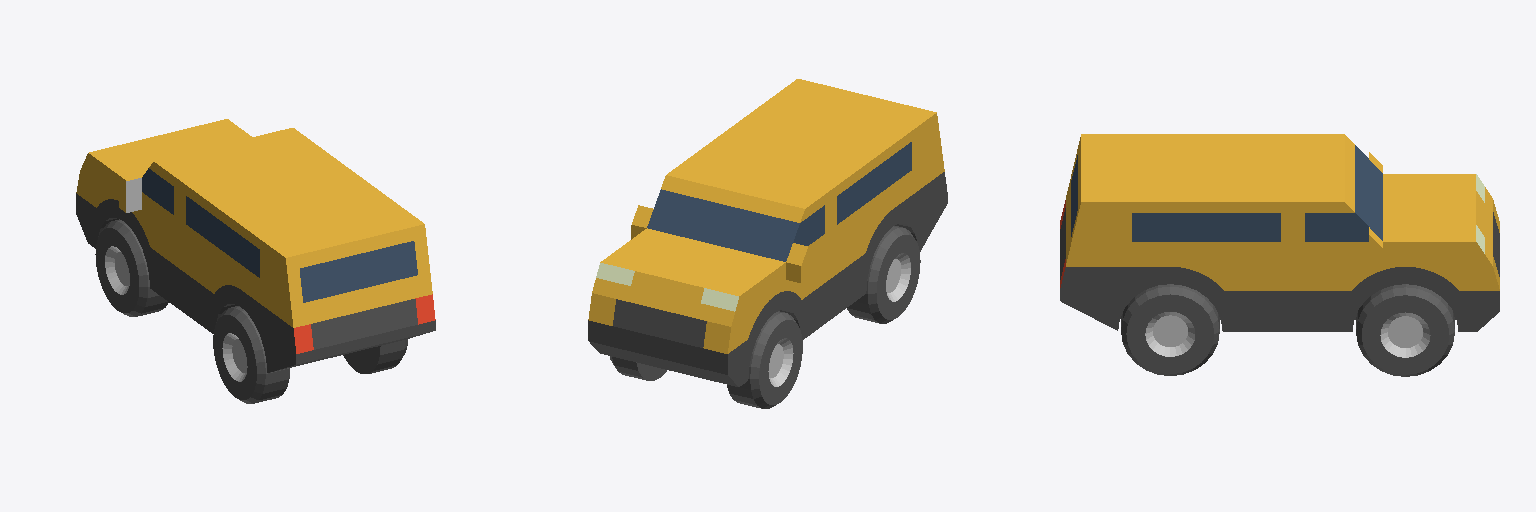
File: carStation.obj
The picture shows the model from 3 angles: view 1: azimuth 30°, elevation 25°; view 2: azimuth 150°, elevation 25°; view 3: azimuth 270°, elevation 25°; orthographic projection.
Visible parts, largest first — view 1: body 9, wheelBackLeft 9, wheelFrontLeft 9, wheelBackRight 9; view 2: body 9, wheelFrontLeft 9, wheelBackLeft 9, wheelFrontRight 9; view 3: body 9, wheelFrontRight 9, wheelBackRight 9.
Part boxes in pixels (left/top/right/bottom): body 9: left=76, top=119, right=435, bottom=372; wheelBackLeft 9: left=213, top=306, right=289, bottom=403; wheelFrontLeft 9: left=95, top=219, right=168, bottom=316; wheelBackRight 9: left=343, top=339, right=407, bottom=373; body 9: left=588, top=79, right=947, bottom=386; wheelFrontLeft 9: left=727, top=311, right=802, bottom=408; wheelBackLeft 9: left=847, top=226, right=920, bottom=323; wheelFrontRight 9: left=610, top=356, right=666, bottom=380; body 9: left=1060, top=134, right=1499, bottom=331; wheelFrontRight 9: left=1356, top=284, right=1454, bottom=376; wheelBackRight 9: left=1121, top=284, right=1219, bottom=375.
Size of the model in its own units: 8.88 by 8.76 by 19.92.